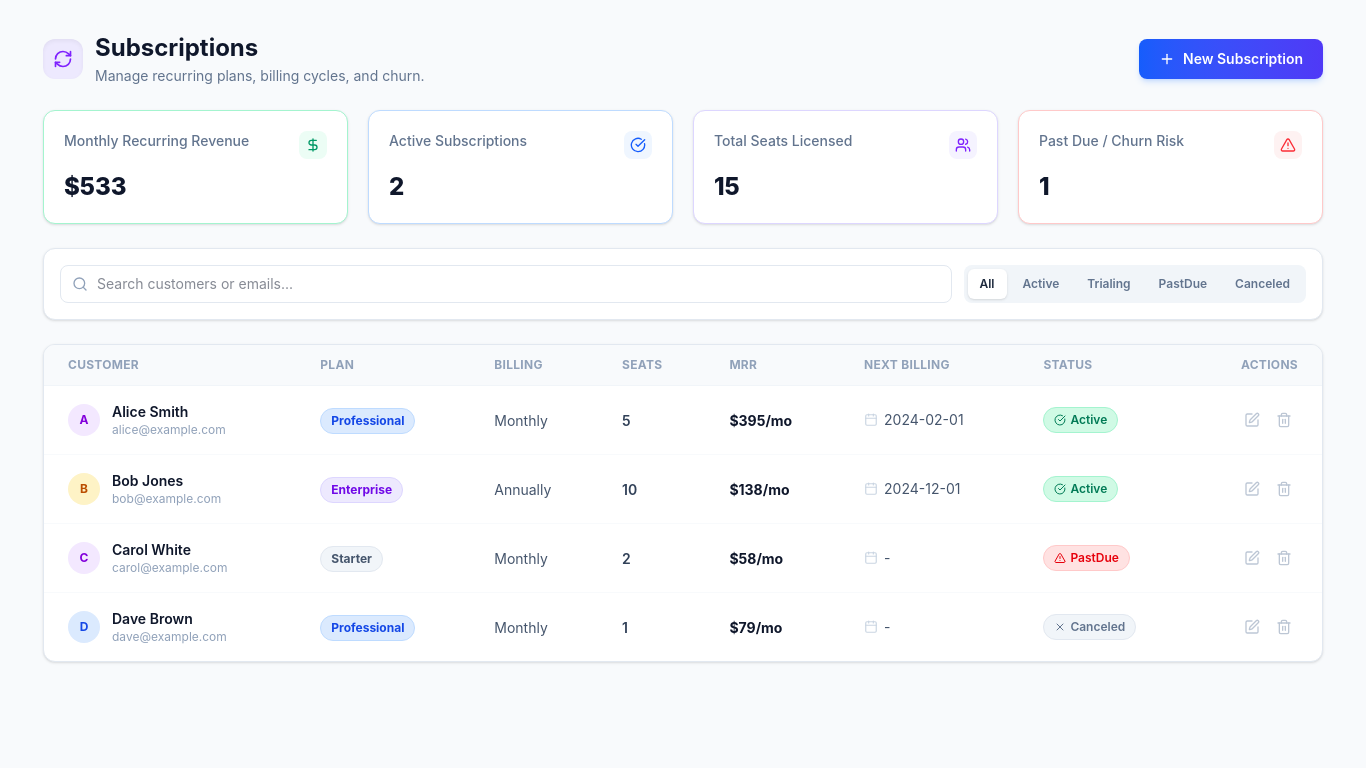
Test: Subscriptions Component › filters subscriptions by PastDue status
expect the text "Alice Smith" is shown: met, box [112,403,188,420]
Step 1. Click the button "PastDue" → (1183, 284), box [1147,269,1219,299]
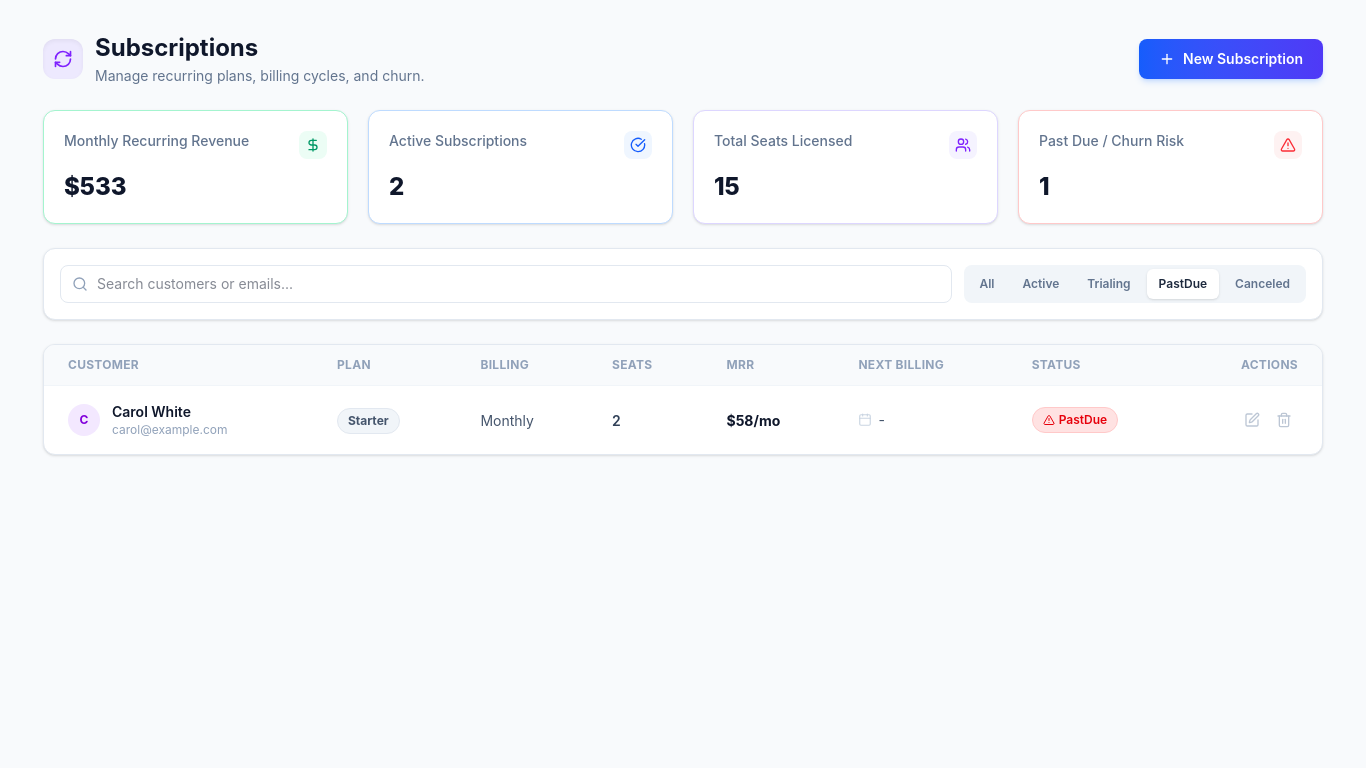
expect the text "Carol White" is shown: met, box [112,403,191,420]
expect the text "Alice Smith" is gone: met
